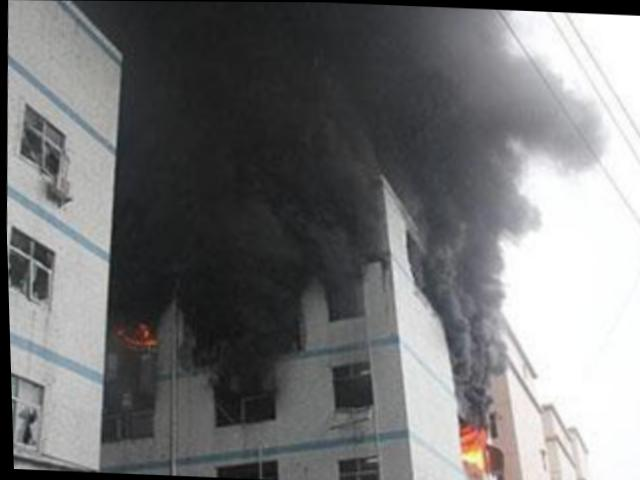fire: (452, 421, 483, 468)
